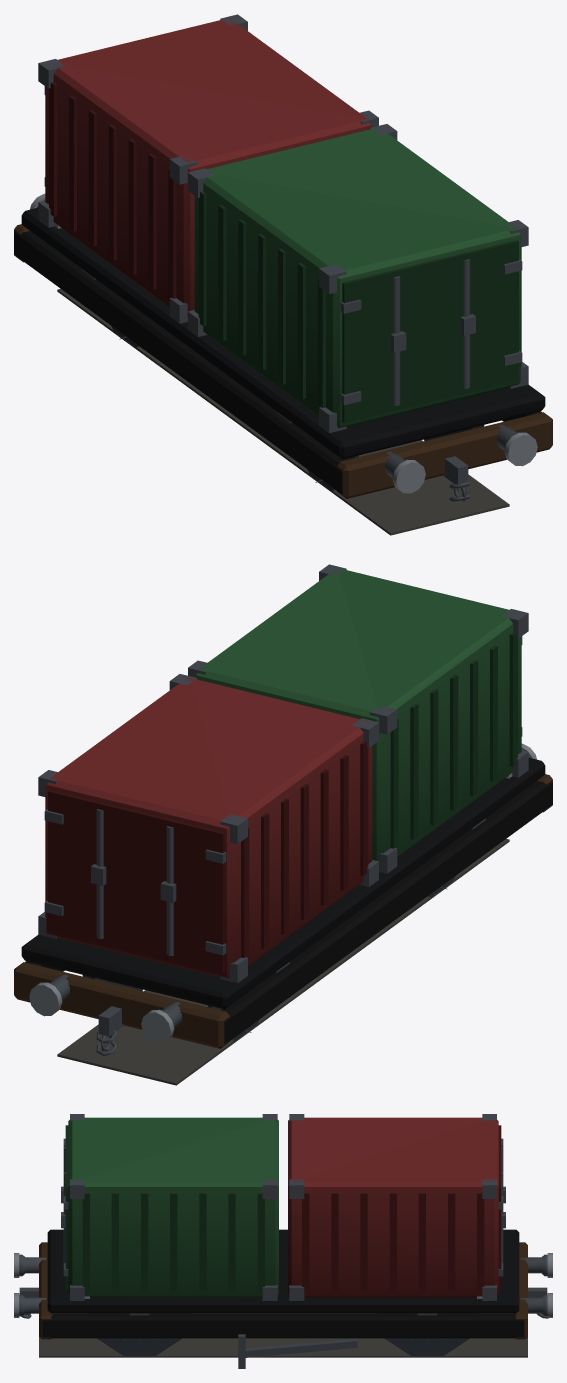
The model's file is container-flat-wagon.glb.
3 renders of one model, top to bottom at view 1: azimuth 30°, elevation 25°; view 2: azimuth 150°, elevation 25°; view 3: azimuth 270°, elevation 25°, orthographic. The views are drawn at different scales.
Parts seen in each view (by area): view 1: container_flat_wagon; view 2: container_flat_wagon; view 3: container_flat_wagon.
Part boxes in pixels (x1,y1,x2,y2): container_flat_wagon: (14, 14, 552, 535); container_flat_wagon: (14, 564, 552, 1085); container_flat_wagon: (14, 1114, 552, 1368).
Size of the model in its own units: 1.25 by 1.39 by 3.63.
